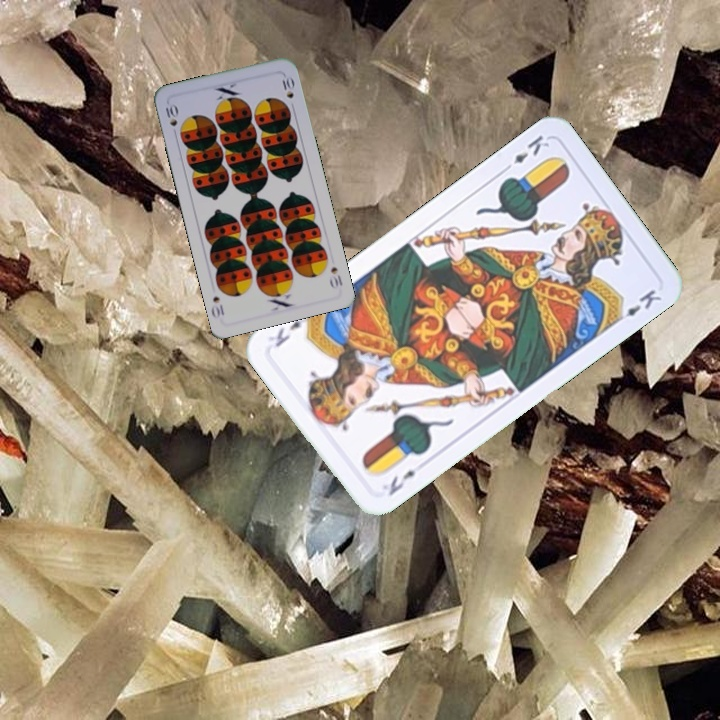EK: (498, 131, 552, 175), (384, 465, 419, 499)
S10: (161, 100, 180, 139), (326, 262, 345, 291)
